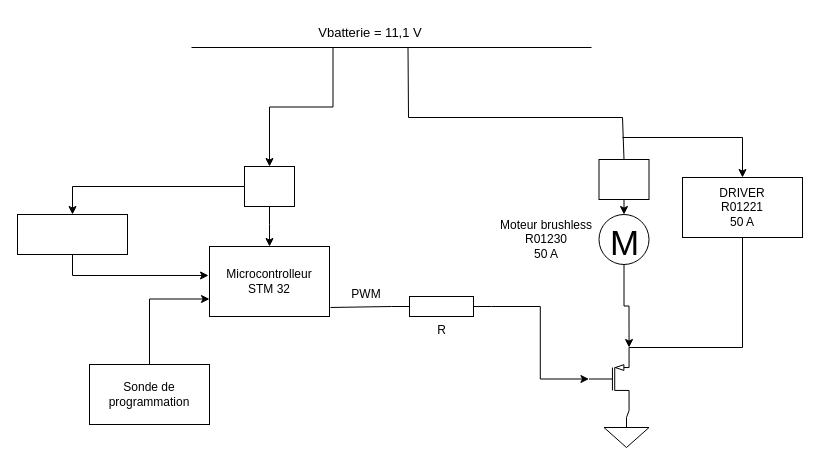
The diagram is 820 pixels wide and 465 high, and some of its shapes have lost their labels. The centre of each missing label's shape, as x and y in pixels:
"Capteur Accéléromètre" belongs at (72,234).
"LDO 10 V" belongs at (623,179).
"LDO 3,3 V" belongs at (269,186).
